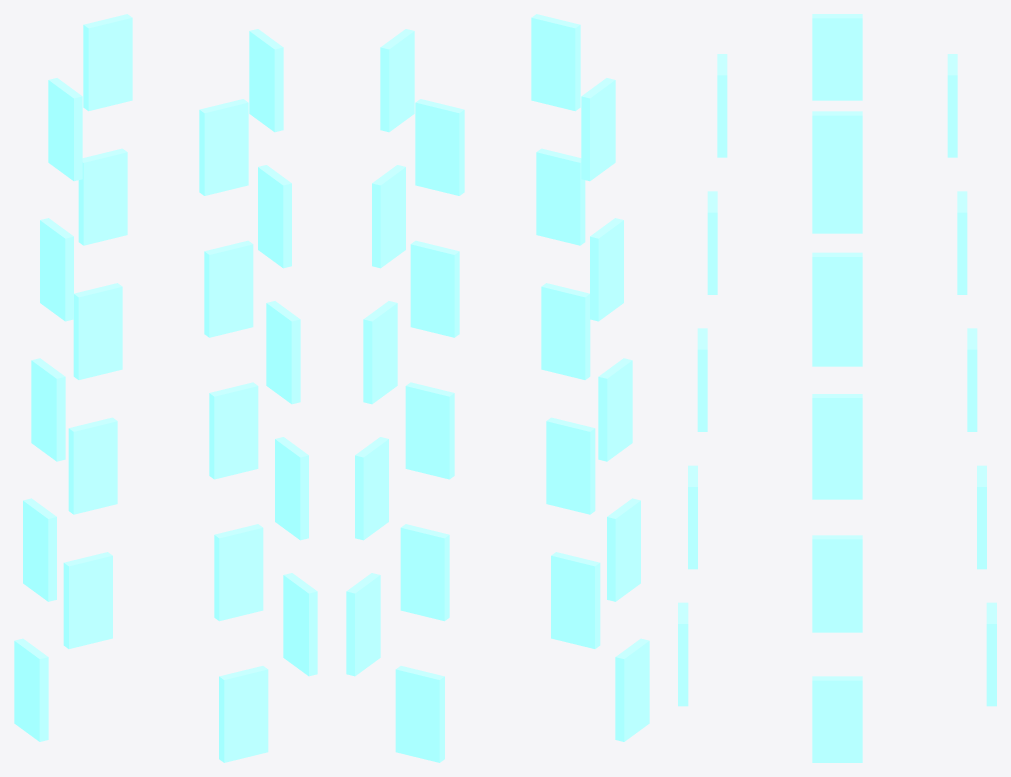
Rendered from waystone_runes.fbx.
The picture shows the model from 3 angles, left to right: view 1: azimuth 30°, elevation 25°; view 2: azimuth 150°, elevation 25°; view 3: azimuth 270°, elevation 25°; orthographic projection.
Visible parts, largest first — view 1: waystone_runes; view 2: waystone_runes; view 3: waystone_runes.
Boxes of the visible parts, x1,y1,x2,y2 form: waystone_runes: (14, 14, 317, 762); waystone_runes: (346, 14, 649, 762); waystone_runes: (678, 14, 996, 762).
Bounding box in the file's own units: 316 × 690 × 316.
